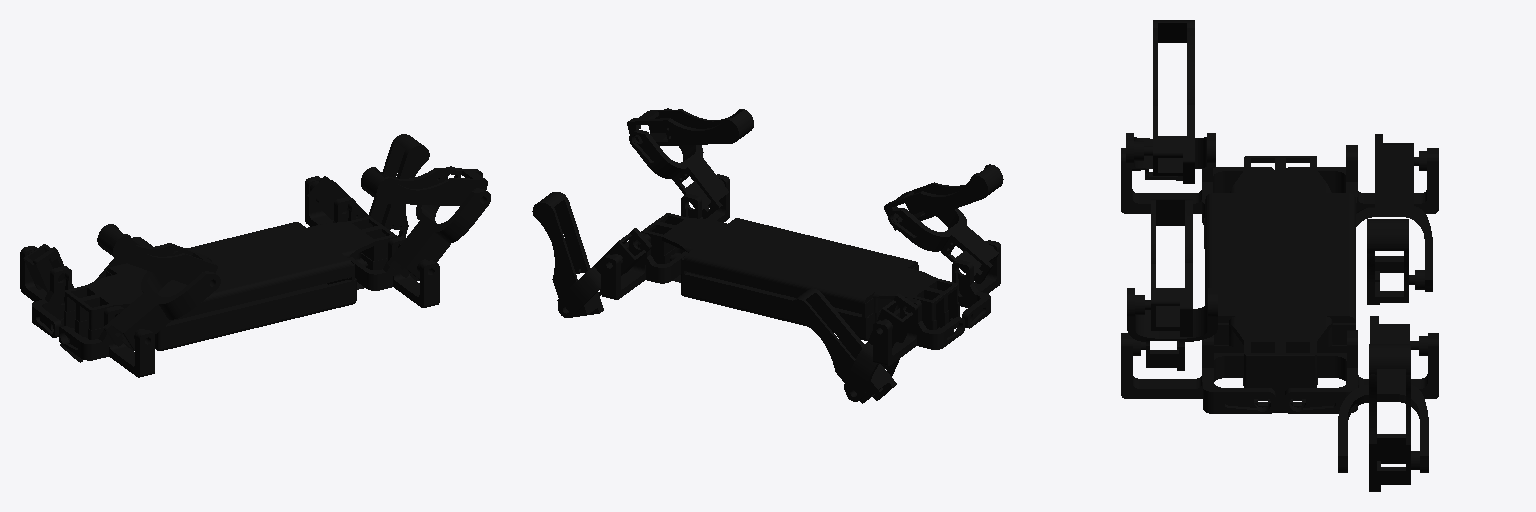
The robot description file, URDF, robot "robotdog":
<?xml version="1.0"?>
<robot name="robotdog">

  <!-- Materials -->
  <material name="Steel">
    <color rgba="0.098 0.098 0.098 1.0"/>
  </material>

  <link name="base_link">
    <inertial>
      <origin xyz="0.120097 0.034326 0.017053" rpy="0 0 0"/>
      <mass value="3.112105"/>
      <inertia ixx="4.977442e-03" ixy="-1.563302e-04" ixz="1.038371e-05"
               iyy="3.846303e-02" iyz="7.210692e-06" izz="4.292141e-02"/>
    </inertial>
    <visual>
      <origin xyz="0.000000 0.000000 0.000000" rpy="3.141593 0.000000 -3.141593"/>
      <geometry>
        <mesh filename="package://robotdog_description/meshes/robotdog/base_link.dae" scale="1 1 1"/>
      </geometry>
      <material name="Steel"/>
    </visual>
    <collision>
      <origin xyz="0.000000 0.000000 0.000000" rpy="3.141593 0.000000 -3.141593"/>
      <geometry>
        <mesh filename="package://robotdog_description/meshes/robotdog/base_link_collision.stl" scale="0.01 0.01 0.01"/>
      </geometry>
    </collision>
  </link>

  <link name="HipFrontLeft_BackRight_f">
    <inertial>
      <origin xyz="-0.122865 -0.005647 -0.021543" rpy="0 0 0"/>
      <mass value="0.928432"/>
      <inertia ixx="5.903021e-04" ixy="0.000000e+00" ixz="0.000000e+00"
               iyy="5.387740e-03" iyz="-2.375317e-06" izz="5.148470e-03"/>
    </inertial>
    <visual>
      <origin xyz="-0.122865 0.011275 -0.136843" rpy="-1.570796 1.570796 0.000000"/>
      <geometry>
        <mesh filename="package://robotdog_description/meshes/robotdog/HipFrontLeft_BackRight_f.dae" scale="1 1 1"/>
      </geometry>
      <material name="Steel"/>
    </visual>
    <collision>
      <origin xyz="-0.122865 0.011275 -0.136843" rpy="-1.570796 1.570796 0.000000"/>
      <geometry>
        <mesh filename="package://robotdog_description/meshes/robotdog/HipFrontLeft_BackRight_f_collision.stl" scale="0.01 0.01 0.01"/>
      </geometry>
    </collision>
  </link>

  <link name="HipFrontLeft_BackRight">
    <inertial>
      <origin xyz="0.122865 0.005647 -0.026976" rpy="0 0 0"/>
      <mass value="0.928432"/>
      <inertia ixx="5.903021e-04" ixy="0.000000e+00" ixz="0.000000e+00"
               iyy="5.387740e-03" iyz="2.375317e-06" izz="5.148470e-03"/>
    </inertial>
    <visual>
      <origin xyz="0.122865 -0.011275 -0.142276" rpy="1.570796 1.570796 0.000000"/>
      <geometry>
        <mesh filename="package://robotdog_description/meshes/robotdog/HipFrontLeft_BackRight.dae" scale="1 1 1"/>
      </geometry>
      <material name="Steel"/>
    </visual>
    <collision>
      <origin xyz="0.122865 -0.011275 -0.142276" rpy="1.570796 1.570796 0.000000"/>
      <geometry>
        <mesh filename="package://robotdog_description/meshes/robotdog/HipFrontLeft_BackRight_collision.stl" scale="0.01 0.01 0.01"/>
      </geometry>
    </collision>
  </link>

  <link name="robotdog_HipFrontRight_BackLeft">
    <inertial>
      <origin xyz="0.059351 -0.005647 -0.021543" rpy="0 0 0"/>
      <mass value="0.464216"/>
      <inertia ixx="2.951510e-04" ixy="5.956986e-05" ixz="1.312491e-05"
               iyy="8.211881e-04" iyz="-1.187659e-06" izz="7.015532e-04"/>
    </inertial>
    <visual>
      <origin xyz="0.122865 0.011275 -0.136843" rpy="-1.570796 1.570796 0.000000"/>
      <geometry>
        <mesh filename="package://robotdog_description/meshes/robotdog/robotdog_HipFrontRight_BackLeft.dae" scale="1 1 1"/>
      </geometry>
      <material name="Steel"/>
    </visual>
    <collision>
      <origin xyz="0.122865 0.011275 -0.136843" rpy="-1.570796 1.570796 0.000000"/>
      <geometry>
        <mesh filename="package://robotdog_description/meshes/robotdog/robotdog_HipFrontRight_BackLeft_collision.stl" scale="0.01 0.01 0.01"/>
      </geometry>
    </collision>
  </link>

  <link name="LowerSpine">
    <inertial>
      <origin xyz="0.122780 0.041593 0.006027" rpy="0 0 0"/>
      <mass value="2.576339"/>
      <inertia ixx="3.655879e-03" ixy="-2.172394e-07" ixz="2.295744e-06"
               iyy="2.998103e-02" iyz="1.047201e-11" izz="3.342220e-02"/>
    </inertial>
    <visual>
      <origin xyz="0.000000 0.000000 0.000000" rpy="0.000000 0.000000 0.000000"/>
      <geometry>
        <mesh filename="package://robotdog_description/meshes/robotdog/LowerSpine.dae" scale="1 1 1"/>
      </geometry>
      <material name="Steel"/>
    </visual>
    <collision>
      <origin xyz="0.000000 0.000000 0.000000" rpy="0.000000 0.000000 0.000000"/>
      <geometry>
        <mesh filename="package://robotdog_description/meshes/robotdog/LowerSpine_collision.stl" scale="0.01 0.01 0.01"/>
      </geometry>
    </collision>
  </link>

  <link name="robotdog_HipFrontRight_BackLeft_2">
    <inertial>
      <origin xyz="-0.059351 0.005647 -0.026976" rpy="0 0 0"/>
      <mass value="0.464216"/>
      <inertia ixx="2.951510e-04" ixy="5.956986e-05" ixz="-1.312491e-05"
               iyy="8.211881e-04" iyz="1.187659e-06" izz="7.015532e-04"/>
    </inertial>
    <visual>
      <origin xyz="-0.122865 -0.011275 -0.142276" rpy="1.570796 1.570796 0.000000"/>
      <geometry>
        <mesh filename="package://robotdog_description/meshes/robotdog/robotdog_HipFrontRight_BackLeft_2.dae" scale="1 1 1"/>
      </geometry>
      <material name="Steel"/>
    </visual>
    <collision>
      <origin xyz="-0.122865 -0.011275 -0.142276" rpy="1.570796 1.570796 0.000000"/>
      <geometry>
        <mesh filename="package://robotdog_description/meshes/robotdog/robotdog_HipFrontRight_BackLeft_2_collision.stl" scale="0.01 0.01 0.01"/>
      </geometry>
    </collision>
  </link>

  <link name="robotdog_FemurL_f">
    <inertial>
      <origin xyz="0.030044 0.032854 -0.021531" rpy="0 0 0"/>
      <mass value="0.434467"/>
      <inertia ixx="5.283443e-04" ixy="-2.335574e-04" ixz="1.898659e-06"
               iyy="5.106860e-04" iyz="5.669839e-06" izz="5.390745e-04"/>
    </inertial>
    <visual>
      <origin xyz="0.099707 0.120543 0.028748" rpy="1.570796 0.000000 0.785398"/>
      <geometry>
        <mesh filename="package://robotdog_description/meshes/robotdog/robotdog_FemurL_f.dae" scale="1 1 1"/>
      </geometry>
      <material name="Steel"/>
    </visual>
    <collision>
      <origin xyz="0.099707 0.120543 0.028748" rpy="1.570796 0.000000 0.785398"/>
      <geometry>
        <mesh filename="package://robotdog_description/meshes/robotdog/robotdog_FemurL_f_collision.stl" scale="0.01 0.01 0.01"/>
      </geometry>
    </collision>
  </link>

  <link name="robotdog_FemurR_f">
    <inertial>
      <origin xyz="0.037523 -0.023958 0.028748" rpy="0 0 0"/>
      <mass value="0.868935"/>
      <inertia ixx="3.017423e-03" ixy="4.133624e-04" ixz="0.000000e+00"
               iyy="3.453952e-03" iyz="0.000000e+00" izz="1.078149e-03"/>
    </inertial>
    <visual>
      <origin xyz="0.127508 -0.090629 0.028748" rpy="-1.570796 0.000000 -0.523599"/>
      <geometry>
        <mesh filename="package://robotdog_description/meshes/robotdog/robotdog_FemurR_f.dae" scale="1 1 1"/>
      </geometry>
      <material name="Steel"/>
    </visual>
    <collision>
      <origin xyz="0.127508 -0.090629 0.028748" rpy="-1.570796 0.000000 -0.523599"/>
      <geometry>
        <mesh filename="package://robotdog_description/meshes/robotdog/robotdog_FemurR_f_collision.stl" scale="0.01 0.01 0.01"/>
      </geometry>
    </collision>
  </link>

  <link name="robotdog_FemurR_f_2">
    <inertial>
      <origin xyz="0.032793 0.030110 -0.024843" rpy="0 0 0"/>
      <mass value="0.868935"/>
      <inertia ixx="3.171964e-03" ixy="-4.630846e-04" ixz="0.000000e+00"
               iyy="3.299411e-03" iyz="0.000000e+00" izz="1.078149e-03"/>
    </inertial>
    <visual>
      <origin xyz="0.109833 0.111394 -0.024843" rpy="1.570796 0.000000 0.698132"/>
      <geometry>
        <mesh filename="package://robotdog_description/meshes/robotdog/robotdog_FemurR_f_2.dae" scale="1 1 1"/>
      </geometry>
      <material name="Steel"/>
    </visual>
    <collision>
      <origin xyz="0.109833 0.111394 -0.024843" rpy="1.570796 0.000000 0.698132"/>
      <geometry>
        <mesh filename="package://robotdog_description/meshes/robotdog/robotdog_FemurR_f_2_collision.stl" scale="0.01 0.01 0.01"/>
      </geometry>
    </collision>
  </link>

  <link name="robotdog_FemurL_f_2">
    <inertial>
      <origin xyz="0.037523 -0.023958 0.021531" rpy="0 0 0"/>
      <mass value="0.434467"/>
      <inertia ixx="4.103827e-04" ixy="2.066812e-04" ixz="-3.301426e-06"
               iyy="6.286475e-04" iyz="4.985235e-06" izz="5.390745e-04"/>
    </inertial>
    <visual>
      <origin xyz="0.127508 -0.090629 -0.028748" rpy="-1.570796 0.000000 -0.523599"/>
      <geometry>
        <mesh filename="package://robotdog_description/meshes/robotdog/robotdog_FemurL_f_2.dae" scale="1 1 1"/>
      </geometry>
      <material name="Steel"/>
    </visual>
    <collision>
      <origin xyz="0.127508 -0.090629 -0.028748" rpy="-1.570796 0.000000 -0.523599"/>
      <geometry>
        <mesh filename="package://robotdog_description/meshes/robotdog/robotdog_FemurL_f_2_collision.stl" scale="0.01 0.01 0.01"/>
      </geometry>
    </collision>
  </link>

  <link name="TibiaR_f">
    <inertial>
      <origin xyz="-0.053021 -0.011526 0.026819" rpy="0 0 0"/>
      <mass value="0.393198"/>
      <inertia ixx="1.658690e-04" ixy="-2.293820e-04" ixz="1.706402e-05"
               iyy="1.020063e-03" iyz="3.150924e-06" izz="1.038644e-03"/>
    </inertial>
    <visual>
      <origin xyz="-0.152303 -0.023427 0.053193" rpy="-1.570796 0.000000 -2.879793"/>
      <geometry>
        <mesh filename="package://robotdog_description/meshes/robotdog/TibiaR_f.dae" scale="1 1 1"/>
      </geometry>
      <material name="Steel"/>
    </visual>
    <collision>
      <origin xyz="-0.152303 -0.023427 0.053193" rpy="-1.570796 0.000000 -2.879793"/>
      <geometry>
        <mesh filename="package://robotdog_description/meshes/robotdog/TibiaR_f_collision.stl" scale="0.01 0.01 0.01"/>
      </geometry>
    </collision>
  </link>

  <link name="robotdog_TibiaL_f">
    <inertial>
      <origin xyz="-0.043182 -0.032854 -0.053193" rpy="0 0 0"/>
      <mass value="0.786397"/>
      <inertia ixx="1.535309e-03" ixy="-9.492387e-04" ixz="1.541688e-10"
               iyy="1.930573e-03" iyz="1.962082e-10" izz="2.077289e-03"/>
    </inertial>
    <visual>
      <origin xyz="-0.128133 -0.085598 -0.053193" rpy="-1.570796 0.000000 -2.443461"/>
      <geometry>
        <mesh filename="package://robotdog_description/meshes/robotdog/robotdog_TibiaL_f.dae" scale="1 1 1"/>
      </geometry>
      <material name="Steel"/>
    </visual>
    <collision>
      <origin xyz="-0.128133 -0.085598 -0.053193" rpy="-1.570796 0.000000 -2.443461"/>
      <geometry>
        <mesh filename="package://robotdog_description/meshes/robotdog/robotdog_TibiaL_f_collision.stl" scale="0.01 0.01 0.01"/>
      </geometry>
    </collision>
  </link>

  <link name="robotdog_TibiaL_f_2">
    <inertial>
      <origin xyz="-0.051815 0.016103 0.049255" rpy="0 0 0"/>
      <mass value="0.786397"/>
      <inertia ixx="9.713868e-04" ixy="6.001237e-04" ixz="-2.119784e-10"
               iyy="2.494494e-03" iyz="1.316466e-10" izz="2.077289e-03"/>
    </inertial>
    <visual>
      <origin xyz="-0.149682 0.036612 0.049255" rpy="1.570796 0.000000 2.792527"/>
      <geometry>
        <mesh filename="package://robotdog_description/meshes/robotdog/robotdog_TibiaL_f_2.dae" scale="1 1 1"/>
      </geometry>
      <material name="Steel"/>
    </visual>
    <collision>
      <origin xyz="-0.149682 0.036612 0.049255" rpy="1.570796 0.000000 2.792527"/>
      <geometry>
        <mesh filename="package://robotdog_description/meshes/robotdog/robotdog_TibiaL_f_2_collision.stl" scale="0.01 0.01 0.01"/>
      </geometry>
    </collision>
  </link>

  <link name="TibiaR">
    <inertial>
      <origin xyz="-0.047979 -0.024729 0.026897" rpy="0 0 0"/>
      <mass value="0.395681"/>
      <inertia ixx="3.394992e-04" ixy="-4.148235e-04" ixz="1.446677e-05"
               iyy="8.536044e-04" iyz="6.875760e-06" izz="1.045123e-03"/>
    </inertial>
    <visual>
      <origin xyz="-1.371584 0.864976 1.293193" rpy="-1.570796 0.000000 -0.523599"/>
      <geometry>
        <mesh filename="package://robotdog_description/meshes/robotdog/TibiaR.dae" scale="1 1 1"/>
      </geometry>
      <material name="Steel"/>
    </visual>
    <collision>
      <origin xyz="-1.371584 0.864976 1.293193" rpy="-1.570796 0.000000 -0.523599"/>
      <geometry>
        <mesh filename="package://robotdog_description/meshes/robotdog/TibiaR_collision.stl" scale="0.01 0.01 0.01"/>
      </geometry>
    </collision>
  </link>

  <joint name="Revolute_2" type="revolute">
    <parent link="base_link"/>
    <child link="HipFrontLeft_BackRight_f"/>
    <origin xyz="0.284682 0.019937 0.029453" rpy="-1.570796 0.000000 1.570796"/>
    <axis xyz="0.000000 0.000000 1.000000"/>
    <limit lower="-0.436332" upper="0.261799" effort="100.0" velocity="1.00"/>
  </joint>

  <joint name="Revolute_8" type="revolute">
    <parent link="base_link"/>
    <child link="HipFrontLeft_BackRight"/>
    <origin xyz="-0.039600 0.049280 0.029568" rpy="1.570796 0.000000 1.570796"/>
    <axis xyz="0.000000 0.000000 1.000000"/>
    <limit lower="-0.349066" upper="0.261799" effort="100.0" velocity="1.00"/>
  </joint>

  <joint name="Revolute_11" type="revolute">
    <parent link="base_link"/>
    <child link="robotdog_HipFrontRight_BackLeft"/>
    <origin xyz="0.284682 0.049603 0.029453" rpy="-1.570796 0.000000 1.570796"/>
    <axis xyz="0.000000 0.000000 1.000000"/>
    <limit lower="-0.349066" upper="0.261799" effort="100.0" velocity="1.00"/>
  </joint>

  <joint name="Rigid_15" type="fixed">
    <parent link="base_link"/>
    <child link="LowerSpine"/>
    <origin xyz="0.243584 -0.006273 0.062907" rpy="3.141593 0.000000 -3.141593"/>
  </joint>

  <joint name="Revolute_16" type="revolute">
    <parent link="base_link"/>
    <child link="robotdog_HipFrontRight_BackLeft_2"/>
    <origin xyz="-0.039600 0.019614 0.029568" rpy="1.570796 0.000000 1.570796"/>
    <axis xyz="0.000000 0.000000 1.000000"/>
    <limit lower="-0.523599" upper="0.349066" effort="100.0" velocity="1.00"/>
  </joint>

  <joint name="Revolute_14" type="revolute">
    <parent link="HipFrontLeft_BackRight_f"/>
    <child link="robotdog_FemurL_f"/>
    <origin xyz="-0.103465 -0.035482 -0.020984" rpy="3.141593 1.570796 0.000000"/>
    <axis xyz="0.000000 0.000000 1.000000"/>
    <limit lower="-1.308997" upper="1.047198" effort="100.0" velocity="1.00"/>
  </joint>

  <joint name="Revolute_9" type="revolute">
    <parent link="HipFrontLeft_BackRight"/>
    <child link="robotdog_FemurR_f"/>
    <origin xyz="0.103465 0.035482 -0.026417" rpy="-3.141593 -1.570796 0.000000"/>
    <axis xyz="0.000000 0.000000 1.000000"/>
    <limit lower="0.523599" upper="2.879793" effort="100.0" velocity="1.00"/>
  </joint>

  <joint name="Revolute_12" type="revolute">
    <parent link="robotdog_HipFrontRight_BackLeft"/>
    <child link="robotdog_FemurR_f_2"/>
    <origin xyz="0.103465 -0.035482 -0.020984" rpy="3.141593 1.570796 0.000000"/>
    <axis xyz="0.000000 0.000000 1.000000"/>
    <limit lower="-2.705260" upper="-0.436332" effort="100.0" velocity="1.00"/>
  </joint>

  <joint name="Revolute_17" type="revolute">
    <parent link="robotdog_HipFrontRight_BackLeft_2"/>
    <child link="robotdog_FemurL_f_2"/>
    <origin xyz="-0.104124 0.035482 -0.026417" rpy="-3.141593 -1.570796 0.000000"/>
    <axis xyz="0.000000 0.000000 1.000000"/>
    <limit lower="0.000000" upper="4.450590" effort="100.0" velocity="1.00"/>
  </joint>

  <joint name="Revolute_4" type="revolute">
    <parent link="robotdog_FemurL_f"/>
    <child link="TibiaR_f"/>
    <origin xyz="0.071457 0.071484 -0.000290" rpy="-3.141593 0.000000 0.000000"/>
    <axis xyz="0.000000 0.000000 1.000000"/>
    <limit lower="-0.610865" upper="1.658063" effort="100.0" velocity="1.00"/>
  </joint>

  <joint name="Revolute_10" type="revolute">
    <parent link="robotdog_FemurR_f"/>
    <child link="robotdog_TibiaL_f"/>
    <origin xyz="0.087523 -0.050554 -0.000290" rpy="0.000000 0.000000 0.000000"/>
    <axis xyz="0.000000 0.000000 1.000000"/>
    <limit lower="-2.181662" upper="0.000000" effort="100.0" velocity="1.00"/>
  </joint>

  <joint name="Revolute_13" type="revolute">
    <parent link="robotdog_FemurR_f_2"/>
    <child link="robotdog_TibiaL_f_2"/>
    <origin xyz="0.077415 0.064984 0.003065" rpy="0.000000 0.000000 0.000000"/>
    <axis xyz="0.000000 0.000000 1.000000"/>
    <limit lower="-1.658063" upper="0.610865" effort="100.0" velocity="1.00"/>
  </joint>

  <joint name="Revolute_18" type="revolute">
    <parent link="robotdog_FemurL_f_2"/>
    <child link="TibiaR"/>
    <origin xyz="0.087523 -0.050554 0.003290" rpy="0.000000 0.000000 0.000000"/>
    <axis xyz="0.000000 0.000000 1.000000"/>
    <limit lower="-0.087266" upper="2.094395" effort="100.0" velocity="1.00"/>
  </joint>

  <!-- ROS 2 control: generated generic system -->
  <ros2_control name="robotdog_system" type="system">
    <hardware>
      <plugin>mock_components/GenericSystem</plugin>
      <param name="cmd_topic">sim/robotdog_system/cmd</param>
      <param name="state_topic">sim/robotdog_system/state</param>
    </hardware>

    <joint name="Revolute_10">
      <command_interface name="position"/>
      <command_interface name="velocity"/>
      <state_interface name="position">
        <param name="initial_value">0.0</param>
      </state_interface>
      <state_interface name="velocity"/>
      <state_interface name="effort"/>
    </joint>
    <joint name="Revolute_11">
      <command_interface name="position"/>
      <command_interface name="velocity"/>
      <state_interface name="position">
        <param name="initial_value">0.0</param>
      </state_interface>
      <state_interface name="velocity"/>
      <state_interface name="effort"/>
    </joint>
    <joint name="Revolute_12">
      <command_interface name="position"/>
      <command_interface name="velocity"/>
      <state_interface name="position">
        <param name="initial_value">0.0</param>
      </state_interface>
      <state_interface name="velocity"/>
      <state_interface name="effort"/>
    </joint>
    <joint name="Revolute_13">
      <command_interface name="position"/>
      <command_interface name="velocity"/>
      <state_interface name="position">
        <param name="initial_value">0.0</param>
      </state_interface>
      <state_interface name="velocity"/>
      <state_interface name="effort"/>
    </joint>
    <joint name="Revolute_14">
      <command_interface name="position"/>
      <command_interface name="velocity"/>
      <state_interface name="position">
        <param name="initial_value">0.0</param>
      </state_interface>
      <state_interface name="velocity"/>
      <state_interface name="effort"/>
    </joint>
    <joint name="Revolute_16">
      <command_interface name="position"/>
      <command_interface name="velocity"/>
      <state_interface name="position">
        <param name="initial_value">0.0</param>
      </state_interface>
      <state_interface name="velocity"/>
      <state_interface name="effort"/>
    </joint>
    <joint name="Revolute_17">
      <command_interface name="position"/>
      <command_interface name="velocity"/>
      <state_interface name="position">
        <param name="initial_value">0.0</param>
      </state_interface>
      <state_interface name="velocity"/>
      <state_interface name="effort"/>
    </joint>
    <joint name="Revolute_18">
      <command_interface name="position"/>
      <command_interface name="velocity"/>
      <state_interface name="position">
        <param name="initial_value">0.0</param>
      </state_interface>
      <state_interface name="velocity"/>
      <state_interface name="effort"/>
    </joint>
    <joint name="Revolute_2">
      <command_interface name="position"/>
      <command_interface name="velocity"/>
      <state_interface name="position">
        <param name="initial_value">0.0</param>
      </state_interface>
      <state_interface name="velocity"/>
      <state_interface name="effort"/>
    </joint>
    <joint name="Revolute_4">
      <command_interface name="position"/>
      <command_interface name="velocity"/>
      <state_interface name="position">
        <param name="initial_value">0.0</param>
      </state_interface>
      <state_interface name="velocity"/>
      <state_interface name="effort"/>
    </joint>
    <joint name="Revolute_8">
      <command_interface name="position"/>
      <command_interface name="velocity"/>
      <state_interface name="position">
        <param name="initial_value">0.0</param>
      </state_interface>
      <state_interface name="velocity"/>
      <state_interface name="effort"/>
    </joint>
    <joint name="Revolute_9">
      <command_interface name="position"/>
      <command_interface name="velocity"/>
      <state_interface name="position">
        <param name="initial_value">0.0</param>
      </state_interface>
      <state_interface name="velocity"/>
      <state_interface name="effort"/>
    </joint>
  </ros2_control>

</robot>

--- What the picture shows (computed from the rendered views, not written in the file) ---
The picture shows the robot from 3 angles, left to right: view 1: azimuth 30°, elevation 25°; view 2: azimuth 150°, elevation 25°; view 3: azimuth 270°, elevation 25°; orthographic projection.
Robot: robotdog — 14 links, 13 joints (12 revolute, 1 fixed); root link base_link; default pose: joints at zero except 2 at the middle of their limits (Revolute_9 = 1.7, Revolute_12 = -1.57).
Links seen in each view (by area): view 1: LowerSpine, base_link, robotdog_FemurL_f_2, robotdog_FemurL_f, TibiaR_f, TibiaR, robotdog_HipFrontRight_BackLeft_2, HipFrontLeft_BackRight_f, robotdog_TibiaL_f_2, HipFrontLeft_BackRight, robotdog_FemurR_f, robotdog_HipFrontRight_BackLeft (+1 smaller); view 2: LowerSpine, base_link, robotdog_TibiaL_f, robotdog_TibiaL_f_2, robotdog_FemurL_f_2, TibiaR_f, robotdog_FemurL_f, TibiaR, HipFrontLeft_BackRight, robotdog_HipFrontRight_BackLeft, robotdog_FemurR_f, robotdog_HipFrontRight_BackLeft_2 (+2 smaller); view 3: LowerSpine, HipFrontLeft_BackRight_f, robotdog_FemurR_f, robotdog_HipFrontRight_BackLeft, robotdog_TibiaL_f_2, TibiaR, robotdog_FemurR_f_2, TibiaR_f, robotdog_FemurL_f, robotdog_TibiaL_f, HipFrontLeft_BackRight, robotdog_HipFrontRight_BackLeft_2 (+2 smaller).
Link boxes in pixels (x1=…): LowerSpine: x1=65, y1=216, x2=396, y2=329; base_link: x1=64, y1=253, x2=387, y2=350; robotdog_FemurL_f_2: x1=104, y1=251, x2=220, y2=350; robotdog_FemurL_f: x1=387, y1=166, x2=490, y2=279; TibiaR_f: x1=361, y1=167, x2=487, y2=205; TibiaR: x1=97, y1=224, x2=217, y2=284; robotdog_HipFrontRight_BackLeft_2: x1=59, y1=306, x2=154, y2=377; HipFrontLeft_BackRight_f: x1=348, y1=236, x2=439, y2=307; robotdog_TibiaL_f_2: x1=369, y1=134, x2=429, y2=243; HipFrontLeft_BackRight: x1=20, y1=246, x2=71, y2=337; robotdog_FemurR_f: x1=23, y1=244, x2=73, y2=320; robotdog_HipFrontRight_BackLeft: x1=305, y1=176, x2=398, y2=248; LowerSpine: x1=642, y1=213, x2=957, y2=320; base_link: x1=651, y1=248, x2=959, y2=340; robotdog_TibiaL_f: x1=788, y1=288, x2=896, y2=403; robotdog_TibiaL_f_2: x1=532, y1=192, x2=603, y2=317; robotdog_FemurL_f_2: x1=888, y1=208, x2=998, y2=283; TibiaR_f: x1=627, y1=109, x2=753, y2=146; robotdog_FemurL_f: x1=629, y1=108, x2=728, y2=218; TibiaR: x1=884, y1=164, x2=1003, y2=230; HipFrontLeft_BackRight: x1=873, y1=297, x2=964, y2=365; robotdog_HipFrontRight_BackLeft: x1=601, y1=233, x2=687, y2=299; robotdog_FemurR_f: x1=844, y1=293, x2=917, y2=401; robotdog_HipFrontRight_BackLeft_2: x1=952, y1=240, x2=1000, y2=328; LowerSpine: x1=1205, y1=156, x2=1355, y2=380; HipFrontLeft_BackRight_f: x1=1121, y1=333, x2=1275, y2=413; robotdog_FemurR_f: x1=1356, y1=134, x2=1432, y2=291; robotdog_HipFrontRight_BackLeft: x1=1285, y1=330, x2=1438, y2=413; robotdog_TibiaL_f_2: x1=1369, y1=344, x2=1410, y2=491; TibiaR: x1=1144, y1=20, x2=1194, y2=183; robotdog_FemurR_f_2: x1=1338, y1=316, x2=1428, y2=472; TibiaR_f: x1=1145, y1=199, x2=1192, y2=336; robotdog_FemurL_f: x1=1127, y1=288, x2=1217, y2=370; robotdog_TibiaL_f: x1=1367, y1=219, x2=1414, y2=304; HipFrontLeft_BackRight: x1=1286, y1=145, x2=1438, y2=213; robotdog_HipFrontRight_BackLeft_2: x1=1121, y1=148, x2=1273, y2=224.
Bounding box of the posed robot: 0.5328 × 0.2712 × 0.2436 m (x, y, z).
Meshes: 14 distinct files referenced, 14 mesh visuals loaded (14 Collada DAE).
